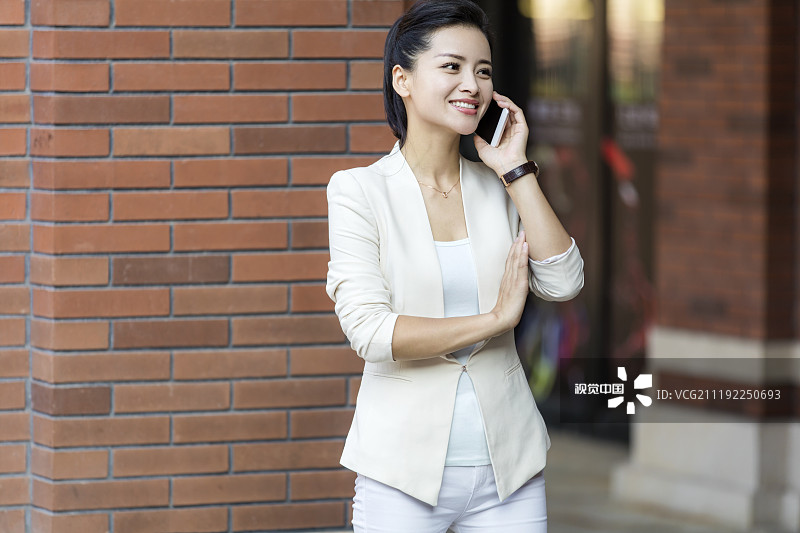calling: (465, 84, 565, 203)
no-phone: (484, 226, 535, 339)
